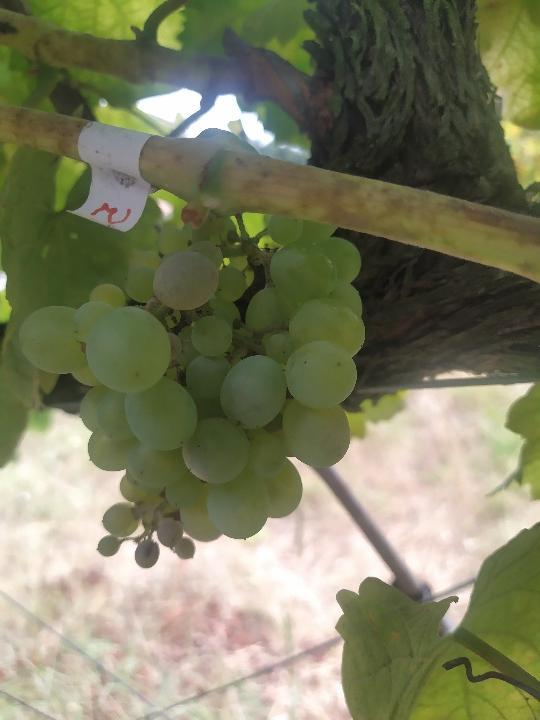grape: (15, 198, 370, 571)
